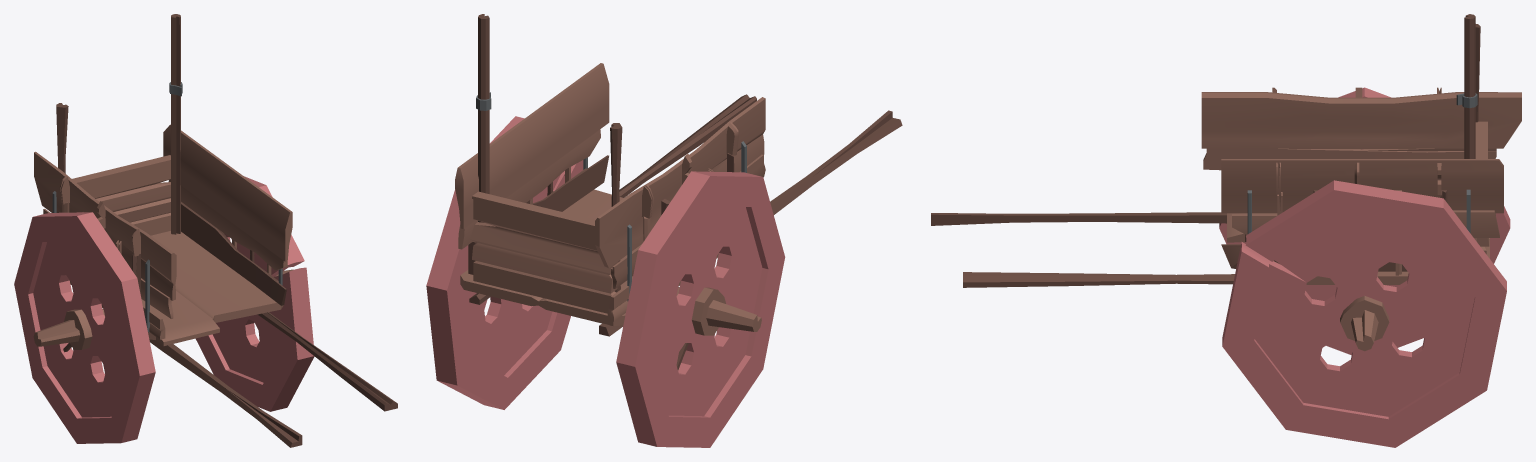
The model's file is SM_Wooden_Cart_Transport.fbx.
3 views of the same model, side by side, from view 1: azimuth 30°, elevation 25°; view 2: azimuth 150°, elevation 25°; view 3: azimuth 270°, elevation 25° (orthographic). The views are drawn at different scales.
Parts seen in each view (by area): view 1: Wooden_Cart_Transport; view 2: Wooden_Cart_Transport; view 3: Wooden_Cart_Transport.
Part boxes in pixels (box(x1,y1,x2,y2)): Wooden_Cart_Transport: box(14, 14, 397, 447); Wooden_Cart_Transport: box(426, 14, 902, 447); Wooden_Cart_Transport: box(931, 14, 1521, 447).
Size of the model in its own units: 138 by 183 by 235.
